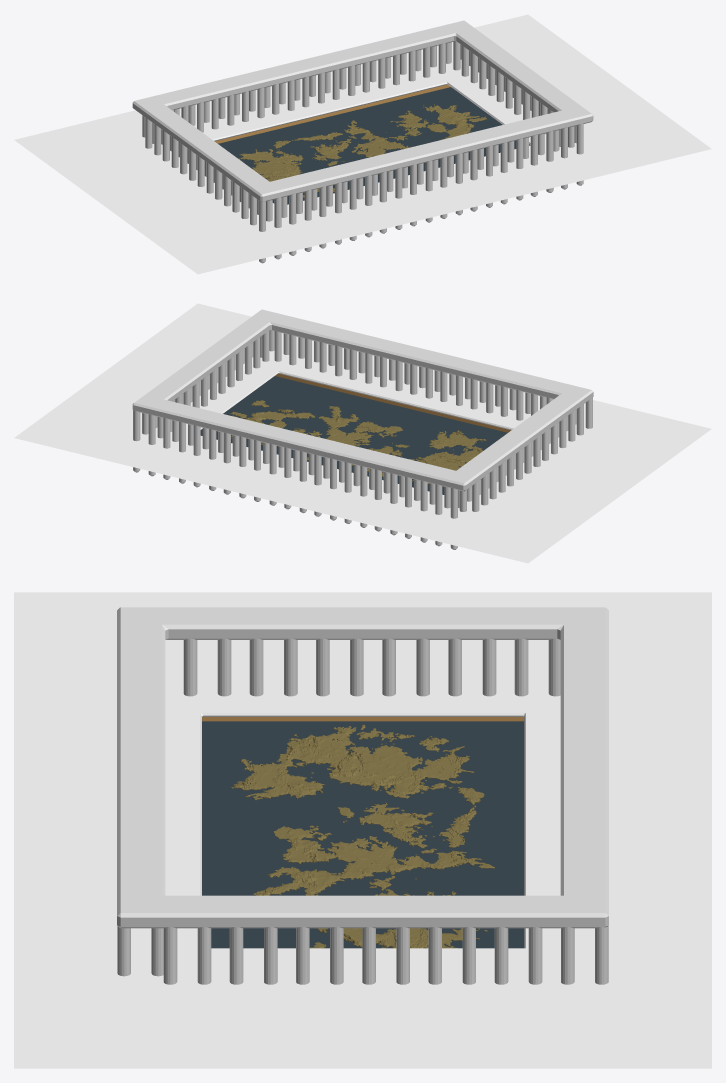
File: world_map-transformed.glb
3 renders of one model, top to bottom at view 1: azimuth 30°, elevation 25°; view 2: azimuth 150°, elevation 25°; view 3: azimuth 270°, elevation 25°, orthographic. The views are drawn at different scales.
Visible parts, largest first — view 1: frame, room, ocean, continents; view 2: frame, room, ocean, continents; view 3: frame, room, ocean, continents.
Part boxes in pixels (x1,y1,x2,y2): frame: (14, 14, 711, 274); room: (132, 20, 593, 263); ocean: (218, 87, 530, 204); continents: (238, 104, 486, 197); frame: (14, 303, 711, 563); room: (132, 309, 593, 549); ocean: (200, 376, 507, 494); continents: (229, 400, 486, 484); frame: (14, 592, 711, 1068); room: (117, 607, 608, 984); ocean: (202, 721, 523, 948); continents: (231, 724, 494, 948).
Bounding box in the file's own units: 3.3 × 0.4249 × 2.05.
